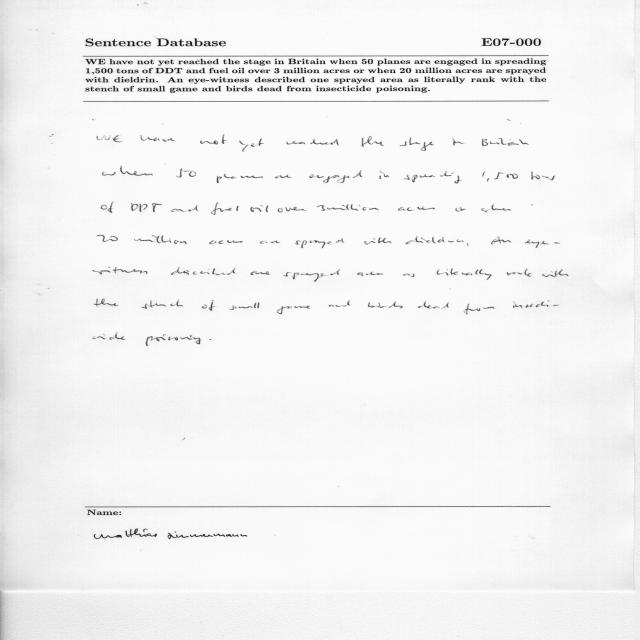word: (440, 171, 518, 184), (283, 269, 340, 282), (310, 170, 363, 183), (146, 334, 202, 346), (437, 268, 492, 280), (171, 267, 235, 275), (102, 166, 153, 176), (296, 238, 345, 248), (134, 235, 187, 244), (400, 137, 434, 151), (406, 236, 464, 244), (93, 267, 147, 275), (217, 174, 263, 183), (482, 138, 529, 146), (286, 139, 339, 146), (142, 300, 183, 309), (513, 300, 559, 308), (211, 202, 239, 215), (327, 204, 379, 211), (239, 138, 264, 152), (525, 239, 560, 248), (464, 304, 494, 314), (277, 306, 310, 315), (131, 203, 162, 212), (481, 204, 511, 213), (361, 136, 384, 147), (404, 174, 435, 182), (141, 135, 176, 142), (368, 301, 403, 308), (229, 302, 259, 310), (200, 135, 226, 144), (93, 333, 125, 340), (418, 302, 449, 309), (94, 298, 118, 307), (506, 269, 532, 277), (542, 269, 568, 277), (364, 238, 392, 245), (531, 172, 555, 180), (171, 205, 198, 212), (176, 169, 196, 178), (97, 135, 122, 142), (278, 207, 307, 213), (398, 207, 435, 211), (97, 235, 118, 242), (329, 300, 350, 307), (202, 300, 215, 311), (491, 237, 511, 244), (209, 240, 243, 244), (101, 202, 113, 213), (251, 205, 269, 212), (357, 272, 383, 276), (452, 139, 464, 146), (379, 171, 389, 179), (260, 240, 280, 244), (251, 271, 271, 275), (275, 175, 292, 179), (317, 205, 326, 211), (455, 207, 466, 211), (403, 274, 415, 277), (467, 243, 468, 246), (210, 339, 212, 340)
